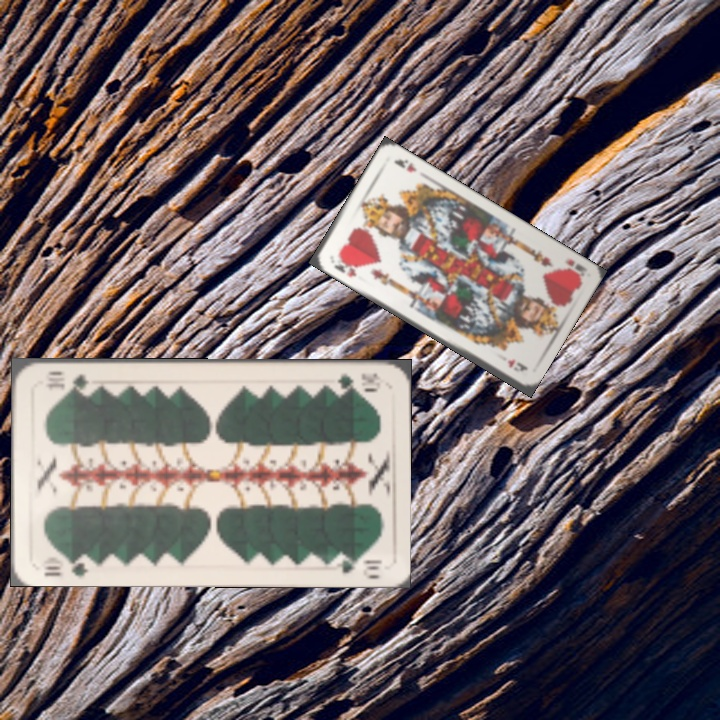G10: (40, 551, 94, 578), (334, 369, 385, 393)
HK: (330, 252, 360, 280), (560, 255, 589, 281)
